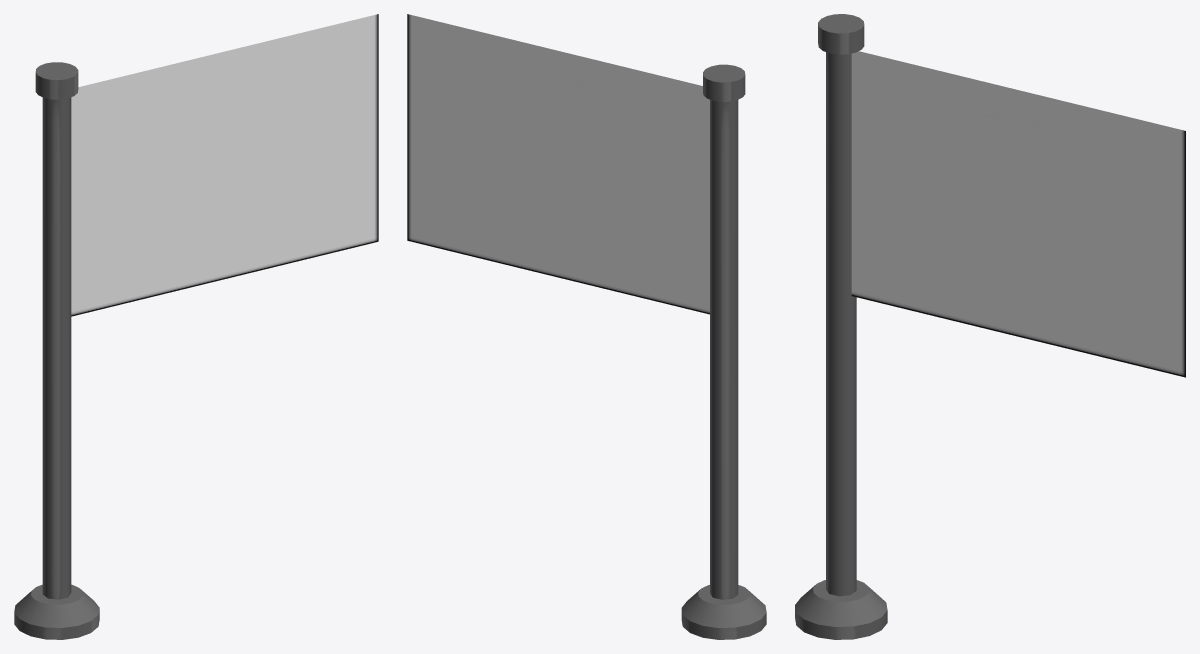
Rendered from flag_Normal.FBX.
3 views of the same model, side by side, from view 1: azimuth 30°, elevation 25°; view 2: azimuth 150°, elevation 25°; view 3: azimuth 330°, elevation 25° (orthographic). The views are drawn at different scales.
Parts seen in each view (by area): view 1: Box072; view 2: Box072; view 3: Box072.
Part boxes in pixels (x1,y1,x2,y2): Box072: [14, 14, 378, 639]; Box072: [407, 14, 766, 639]; Box072: [795, 14, 1185, 639].
Bounding box in the file's own units: 115 × 169 × 24.
